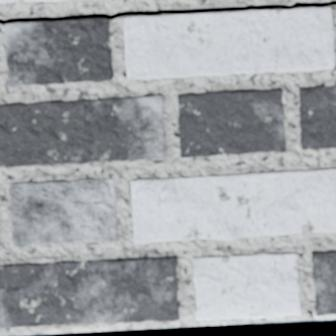brick: (130, 167, 335, 241), (123, 7, 333, 78), (0, 254, 178, 325), (0, 93, 165, 166), (177, 87, 284, 156), (10, 177, 117, 245), (5, 18, 112, 86), (192, 251, 299, 317), (298, 85, 335, 148), (310, 248, 335, 313), (0, 0, 62, 3)
crack: (0, 0, 335, 25)
